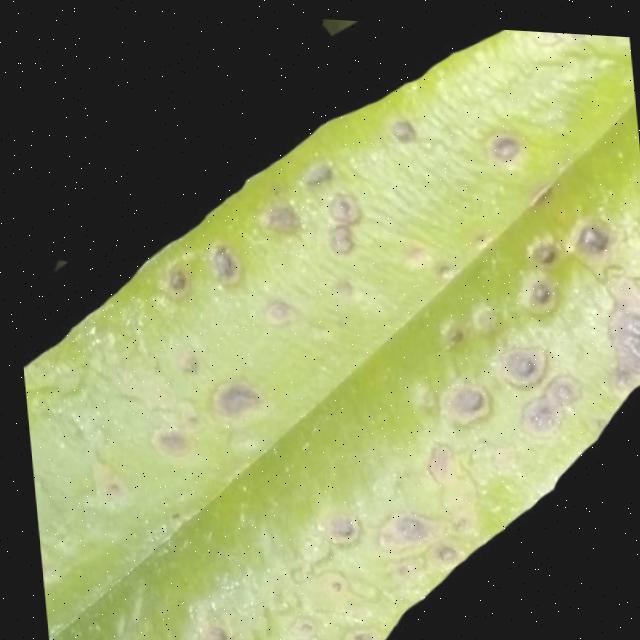mite: (512, 367, 581, 430), (367, 504, 433, 548), (494, 337, 547, 381), (439, 377, 490, 420), (609, 299, 640, 354), (206, 240, 241, 282), (260, 196, 302, 231), (485, 124, 524, 159), (572, 215, 611, 249), (320, 507, 356, 543), (324, 186, 361, 221), (259, 292, 295, 324), (522, 270, 557, 302), (300, 154, 335, 184), (527, 232, 560, 259), (388, 110, 418, 138), (162, 264, 190, 293)
spots: (1, 11, 640, 640)
